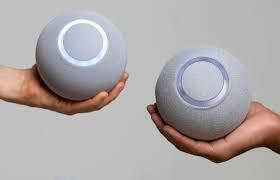Ball: (155, 46, 252, 138), (35, 10, 127, 100)
